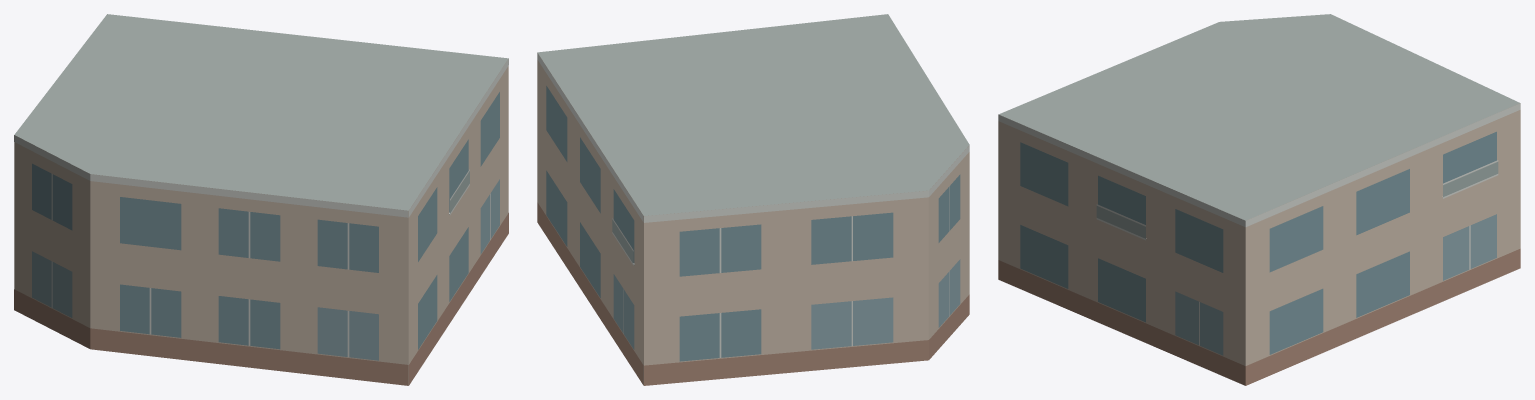
The model's file is survey-upis-32486895.glb.
3 views of the same model, side by side, from view 1: azimuth 30°, elevation 25°; view 2: azimuth 150°, elevation 25°; view 3: azimuth 270°, elevation 25° (orthographic). The views are drawn at different scales.
Visible parts, largest first — view 1: survey-upis-32486895.tmp; view 2: survey-upis-32486895.tmp; view 3: survey-upis-32486895.tmp.
Part boxes in pixels (x1=…): survey-upis-32486895.tmp: x1=14, y1=14, x2=508, y2=385; survey-upis-32486895.tmp: x1=537, y1=14, x2=969, y2=385; survey-upis-32486895.tmp: x1=998, y1=14, x2=1520, y2=385.
Size of the model in its own units: 16.38 by 6.1 by 17.48.
